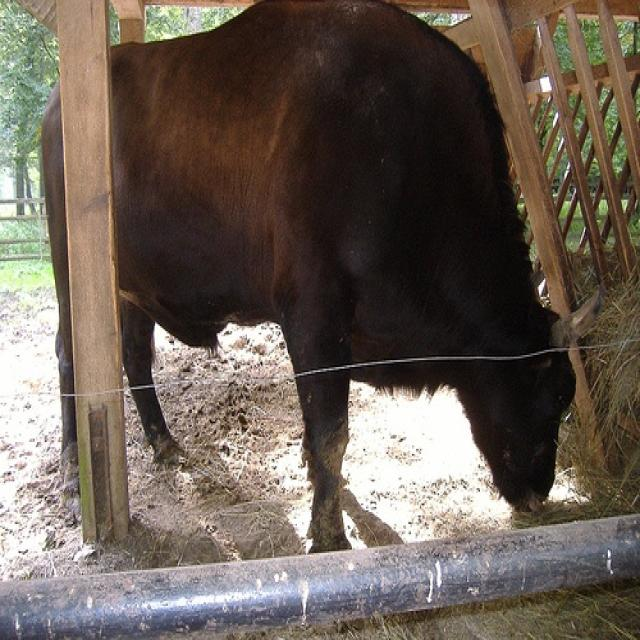cow: (40, 0, 600, 541)
